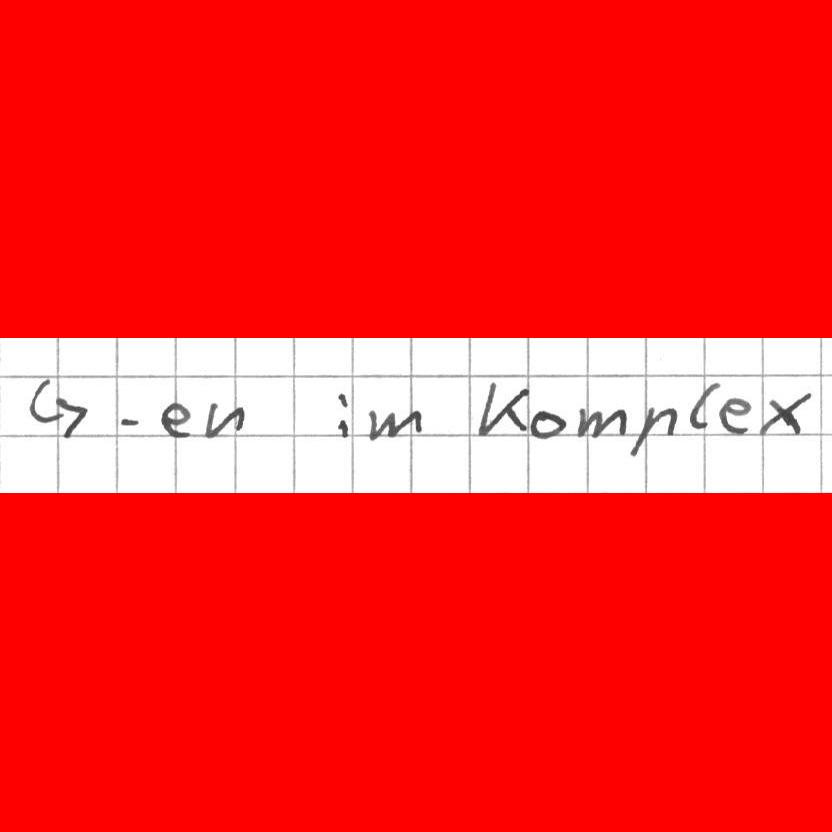Char: (26, 375, 89, 440), (476, 379, 530, 439), (628, 404, 678, 458), (758, 391, 812, 436), (364, 406, 423, 442), (574, 405, 628, 441), (202, 398, 247, 440), (687, 381, 720, 431), (717, 396, 753, 436), (158, 399, 193, 439), (529, 408, 568, 440), (333, 388, 354, 441), (114, 412, 144, 430)
